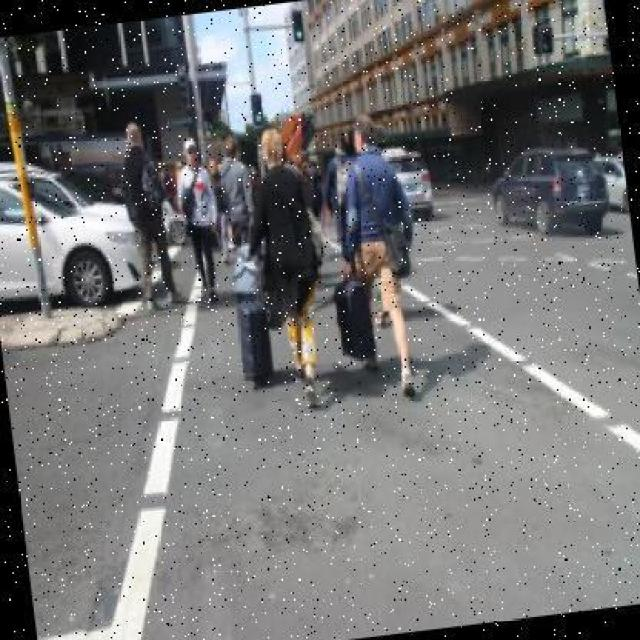Person: (329, 111, 433, 400), (242, 121, 336, 413), (114, 117, 188, 312), (171, 136, 227, 298), (211, 135, 260, 253)
